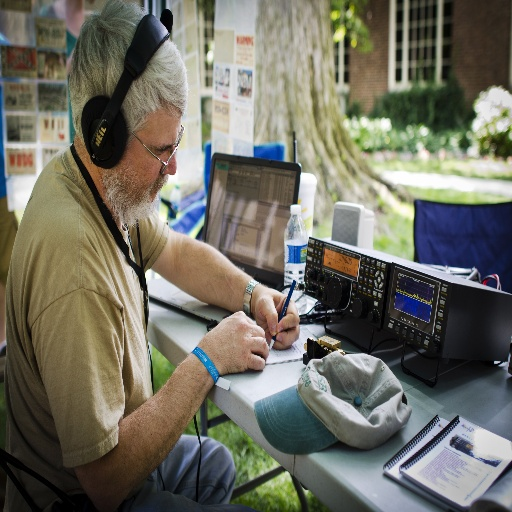hand: (238, 281, 300, 361), (201, 310, 270, 378)
